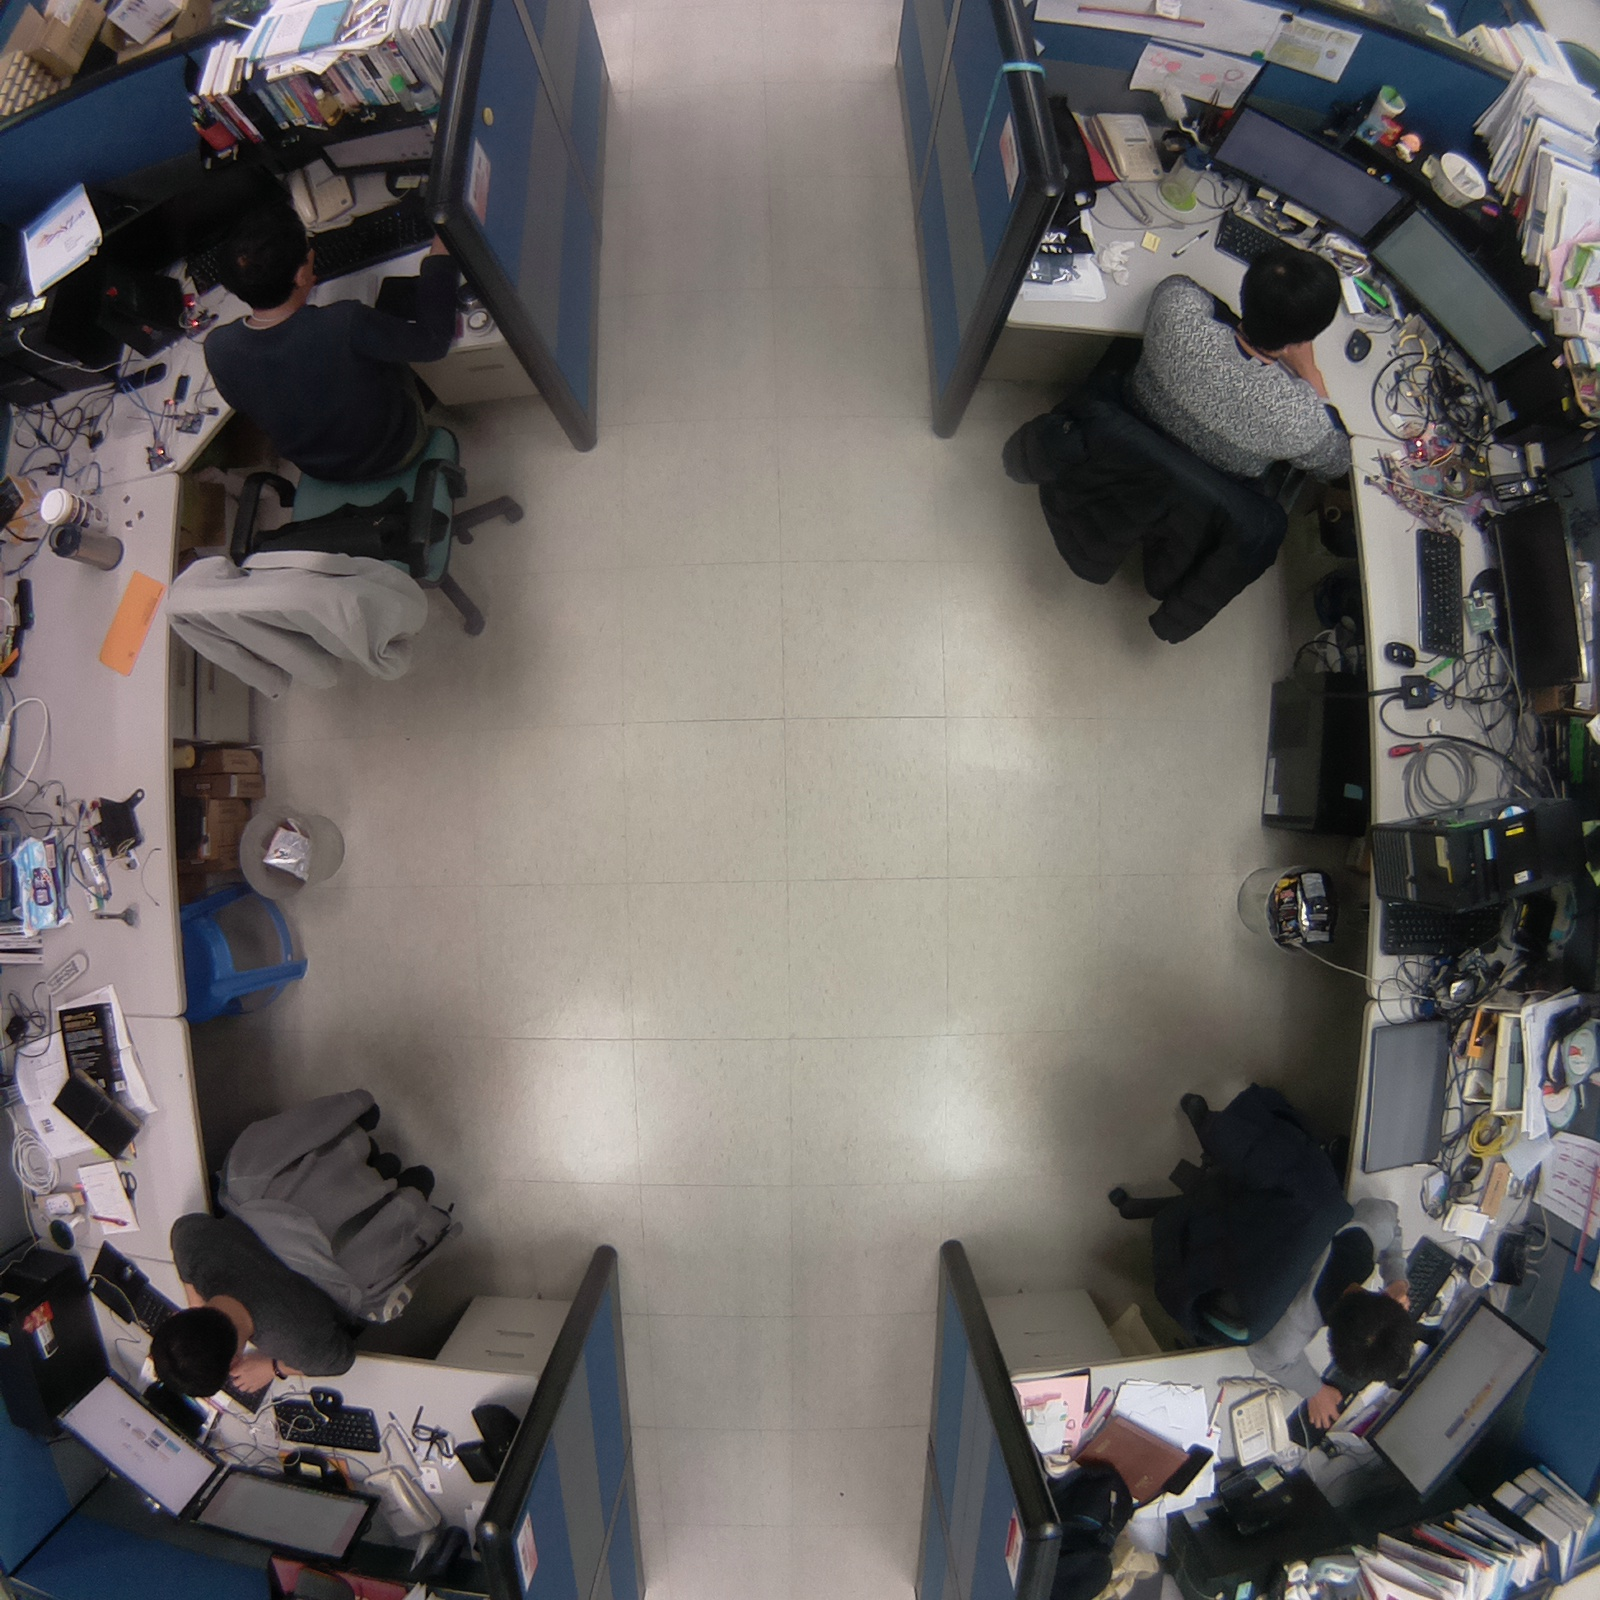sitting: (132, 185, 551, 719), (989, 229, 1377, 667), (1097, 1053, 1453, 1448), (130, 1070, 481, 1423)
